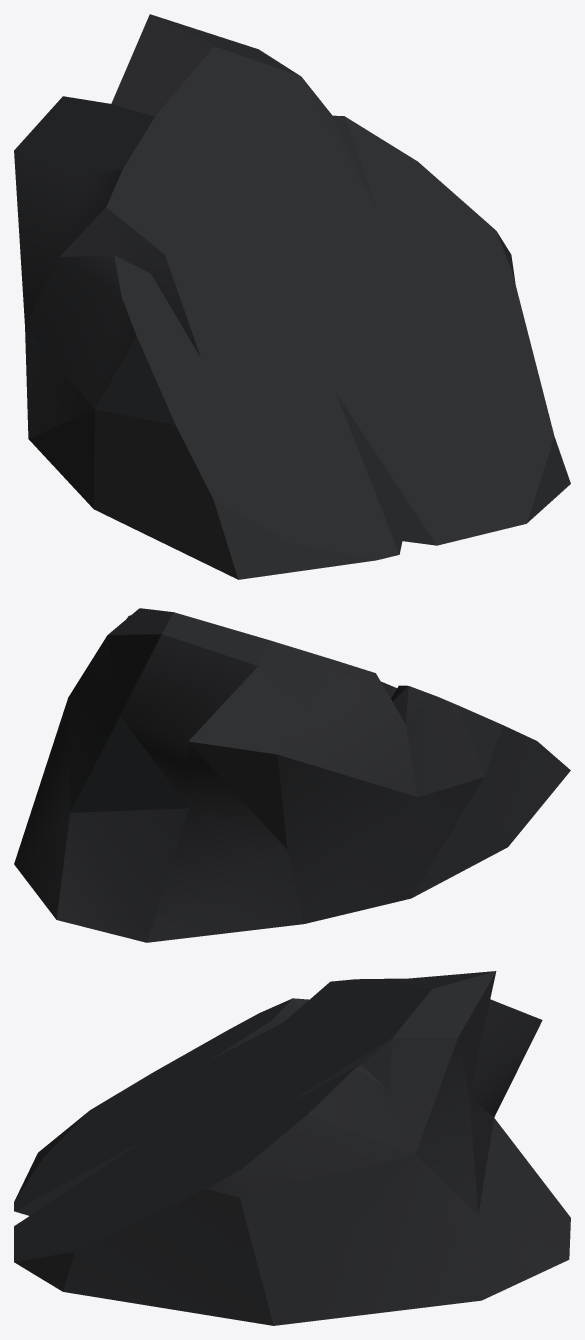
The model's file is Rock_9.fbx.
The picture shows the model from 3 angles, top to bottom: view 1: azimuth 30°, elevation 25°; view 2: azimuth 150°, elevation 25°; view 3: azimuth 270°, elevation 25°; orthographic projection. The views are drawn at different scales.
Parts seen in each view (by area): view 1: Rock_9; view 2: Rock_9; view 3: Rock_9.
Part boxes in pixels (x1=…): Rock_9: x1=14, y1=14, x2=570, y2=579; Rock_9: x1=14, y1=608, x2=570, y2=942; Rock_9: x1=14, y1=971, x2=570, y2=1325.
Bounding box in the file's own units: 61.82 × 39.63 × 77.51.
